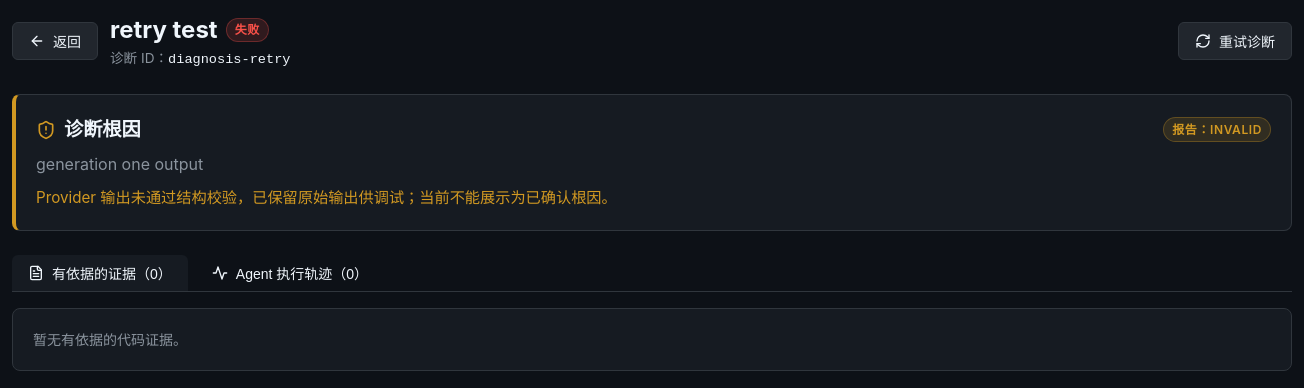
Test: DiagnosisView retry polling › replaces the previous generation report with the terminal retry result
This screenshot has width=1304, height=388.
Step 1. Click the button "重试诊断" → (1235, 41), box [1178,22,1292,60]
Wait 6200 ms
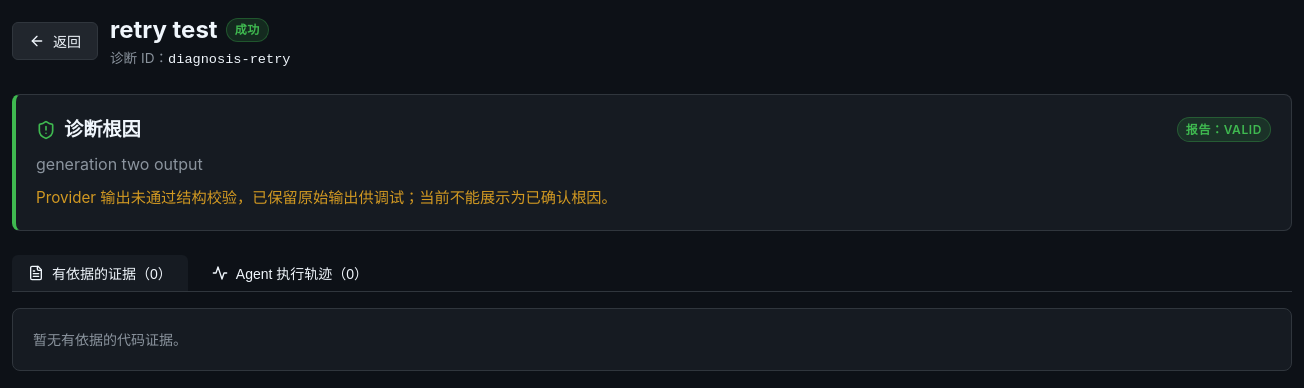
Expected: the text "generation two output" is shown, [36,154,203,174]
Expected: the text "generation one output" is gone
